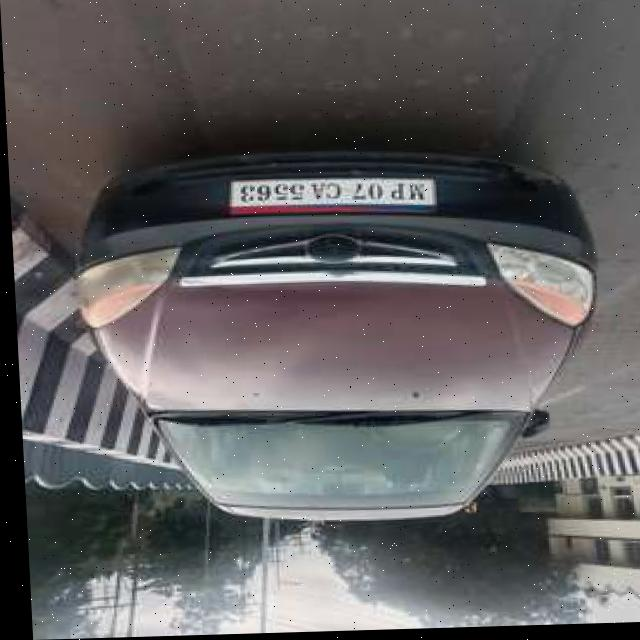plate: (225, 173, 436, 215)
